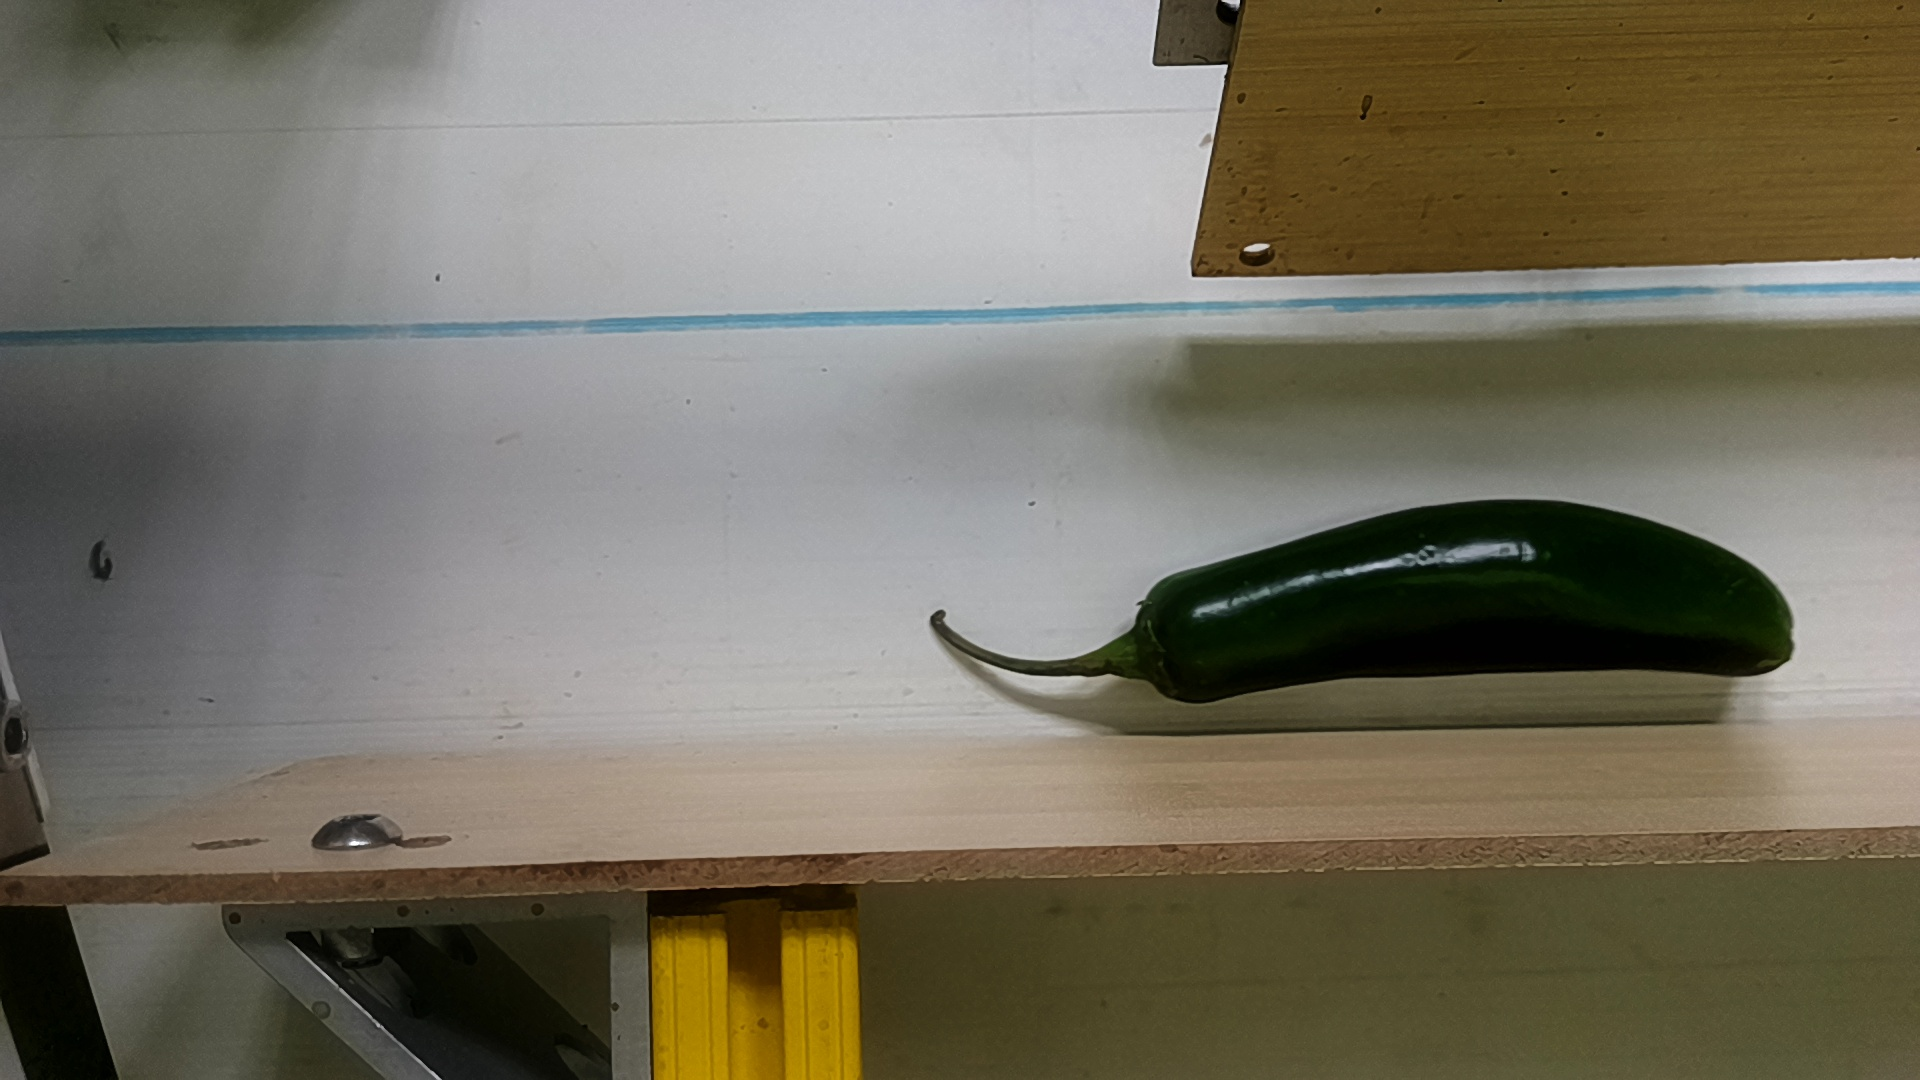Cut Point: (1121, 568, 1212, 709)
